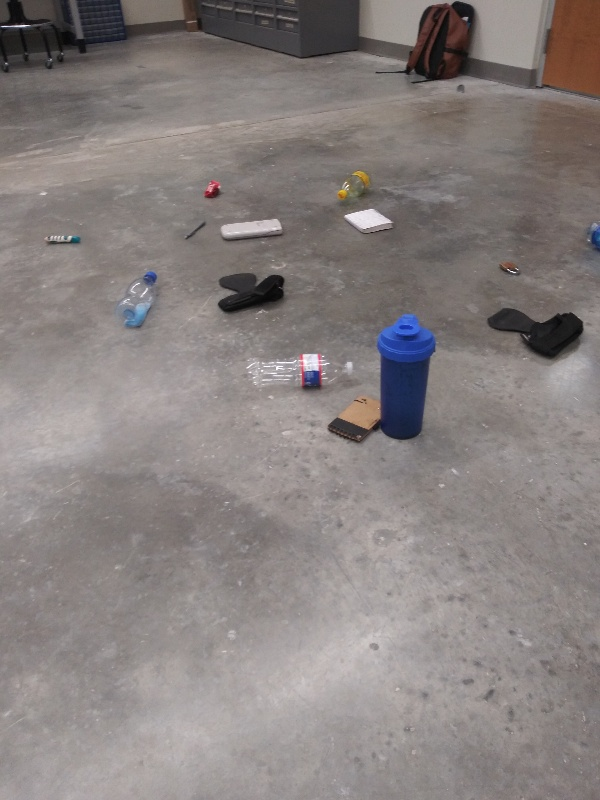bottle: (239, 349, 360, 393), (115, 268, 160, 329), (332, 165, 374, 204), (580, 220, 600, 250)
